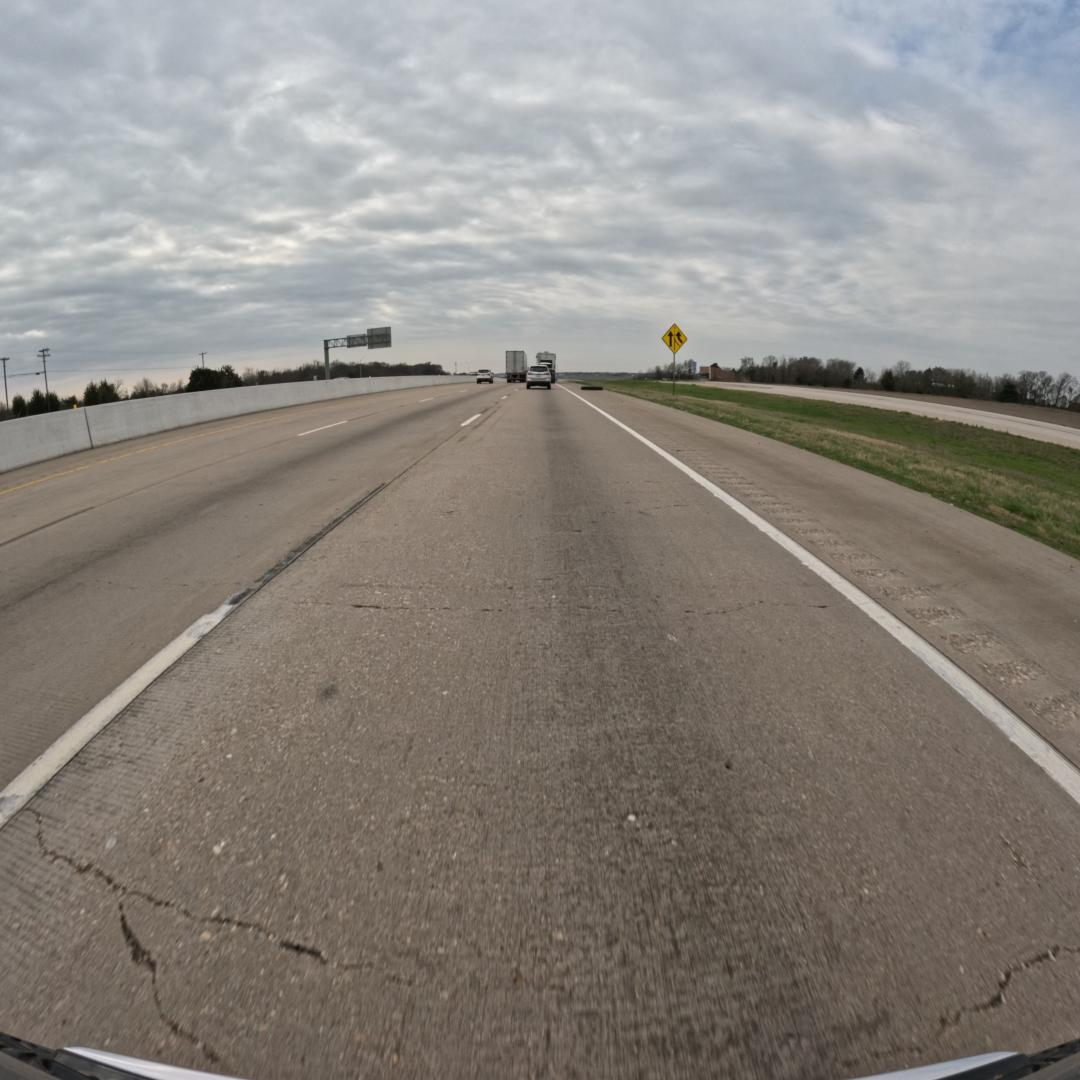lane0: (0, 387, 1080, 1080)
lane1: (0, 384, 526, 827)
